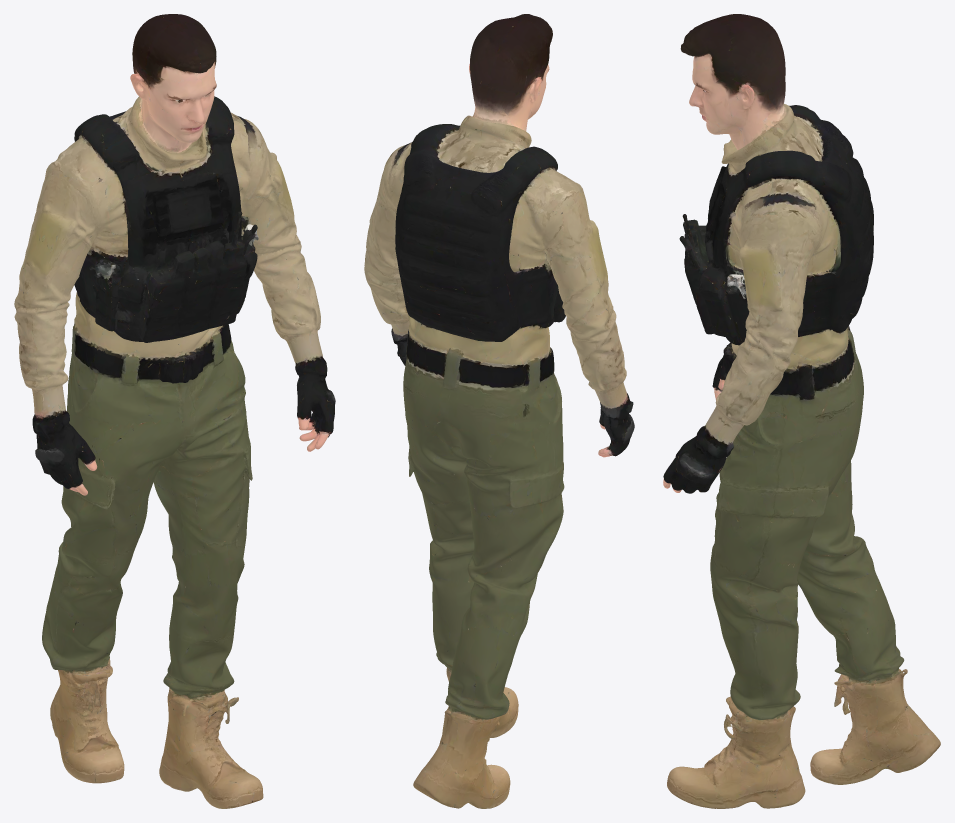
File: dead_pilot.glb
3 renders of one model, left to right at view 1: azimuth 30°, elevation 25°; view 2: azimuth 150°, elevation 25°; view 3: azimuth 270°, elevation 25°, orthographic. The views are drawn at different scales.
Visible parts, largest first — view 1: Object_5; view 2: Object_5; view 3: Object_5.
Part boxes in pixels (x1,y1,x2,y2): Object_5: [14, 14, 335, 808]; Object_5: [364, 14, 634, 808]; Object_5: [663, 14, 940, 808].
Size of the model in its own units: 0.7013 by 1.9 by 0.6211.
1 material, 1 textured.
